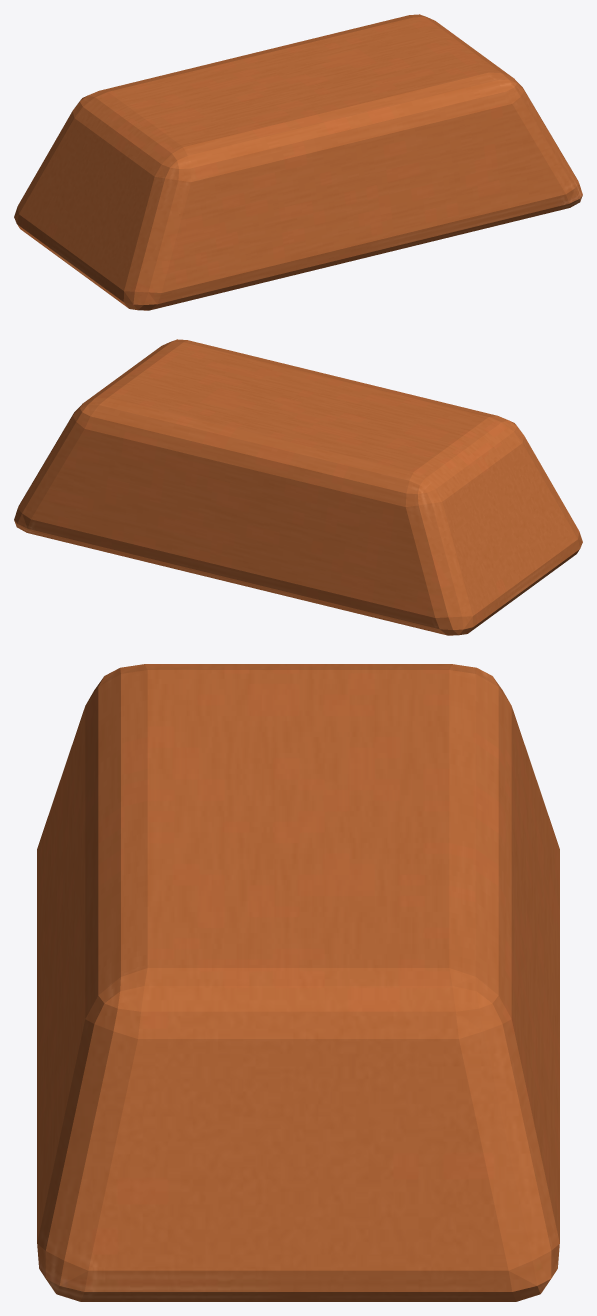
The model's file is res_copper_ingot.glb.
The picture shows the model from 3 angles, top to bottom: view 1: azimuth 30°, elevation 25°; view 2: azimuth 150°, elevation 25°; view 3: azimuth 270°, elevation 25°; orthographic projection. The views are drawn at different scales.
Visible parts, largest first — view 1: res_copper_ingot; view 2: res_copper_ingot; view 3: res_copper_ingot.
Boxes of the visible parts, x1,y1,x2,y2 form: res_copper_ingot: [14, 14, 582, 310]; res_copper_ingot: [14, 339, 582, 635]; res_copper_ingot: [37, 664, 559, 1301].
Size of the model in its own units: 0.3 by 0.085 by 0.1488.
Materials: 1 (1 with a texture image).
